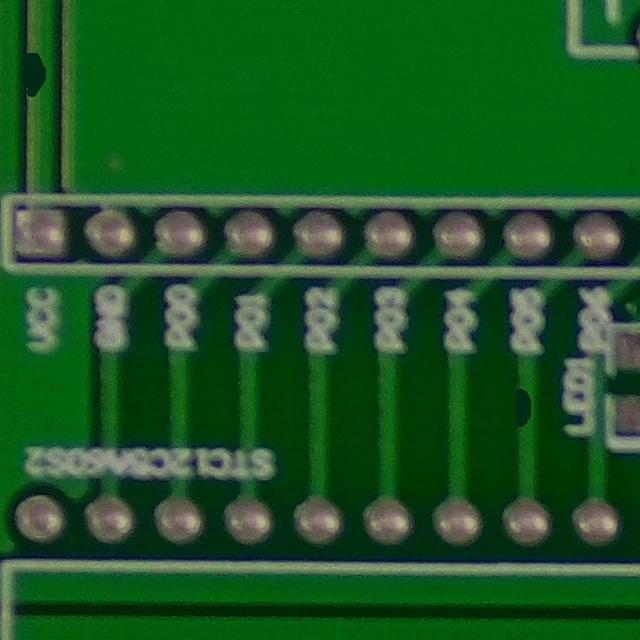mouse_bite: (6, 34, 64, 107), (495, 378, 546, 434)
